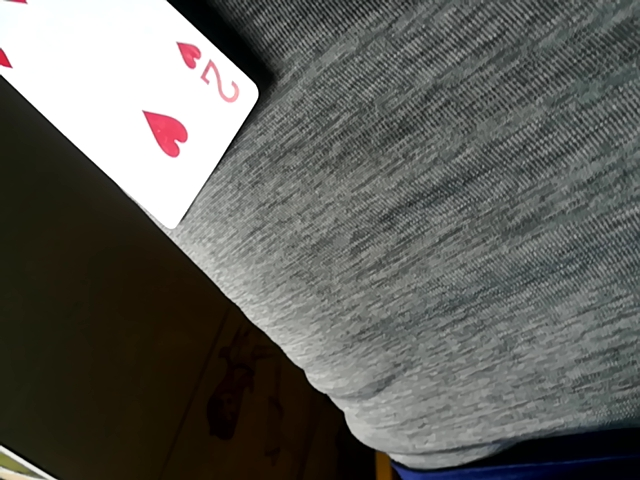hx 2: (0, 0, 267, 235)
